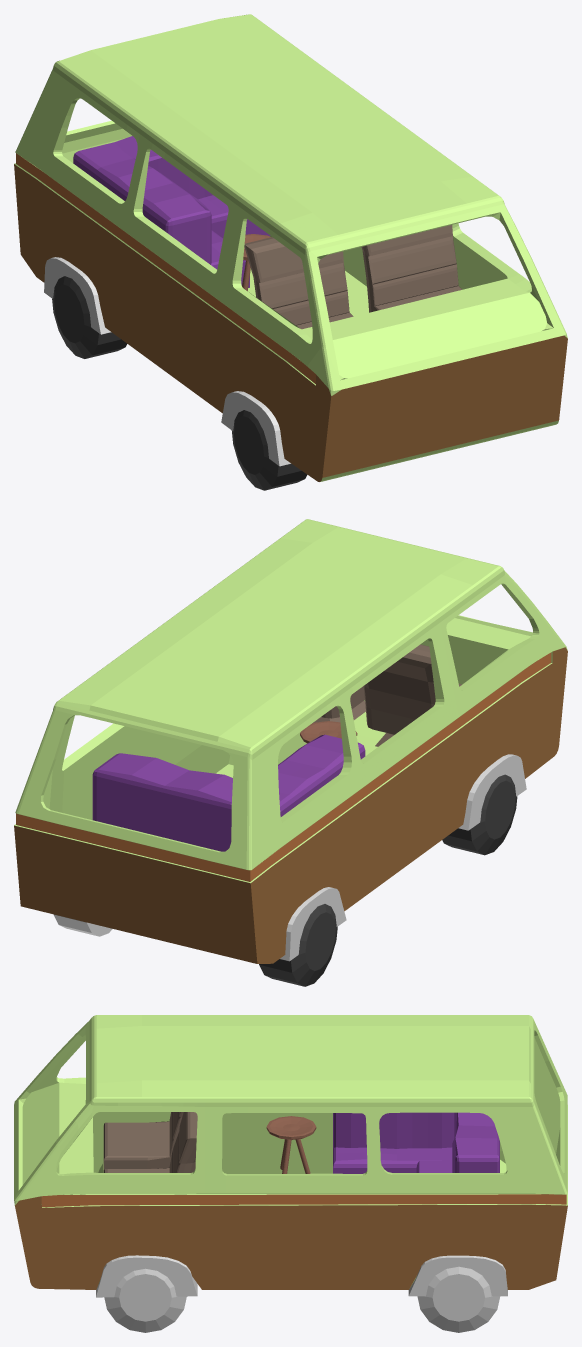
Rendered from VanagonGL_painted-webready.glb.
3 views of the same model, one above another, from view 1: azimuth 30°, elevation 25°; view 2: azimuth 150°, elevation 25°; view 3: azimuth 270°, elevation 25° (orthographic). The views are drawn at different scales.
Visible parts, largest first — view 1: VanBody, VanLowerBody, Sofa, Seat-2, Seat-1, VanBody-Strip, Tier-2.005, Tier-2.004, Cube.004, Cube.003; view 2: VanBody, VanLowerBody, Sofa, VanBody-Strip, Seat-1, Tier-2.005, Tier-2.004, Cube.004, Cube.003, Seat-legs.001, Seat-2, Tier-2.001; view 3: VanBody, VanLowerBody, Sofa, VanBody-Strip, Tier-2.001, Tier-2, Seat-1, Cube.002, Cube.001, Seat-2, Seat-legs.001.
Part boxes in pixels (x1,y1,x2,y2): VanBody: (14, 14, 567, 481); VanLowerBody: (14, 164, 567, 481); Sofa: (73, 136, 270, 287); Seat-2: (361, 225, 462, 312); Seat-1: (244, 237, 353, 329); VanBody-Strip: (16, 153, 315, 383); Tier-2.005: (52, 276, 126, 358); Tier-2.004: (231, 410, 307, 490); Cube.004: (221, 391, 290, 466); Cube.003: (44, 257, 111, 334); VanBody: (14, 519, 567, 883); VanLowerBody: (14, 647, 567, 963); Sofa: (92, 734, 365, 851); VanBody-Strip: (16, 652, 551, 881); Seat-1: (363, 644, 461, 746); Tier-2.005: (259, 904, 337, 986); Tier-2.004: (442, 774, 517, 855); Cube.004: (458, 754, 526, 830); Cube.003: (280, 887, 346, 961); Seat-legs.001: (300, 721, 357, 743); Seat-2: (312, 686, 365, 723); Tier-2.001: (53, 914, 112, 936); VanBody: (14, 1015, 567, 1285); VanLowerBody: (15, 1196, 567, 1289); Sofa: (333, 1112, 499, 1173); VanBody-Strip: (41, 1194, 566, 1207); Tier-2.001: (417, 1266, 500, 1332); Tier-2: (104, 1268, 186, 1332); Seat-1: (103, 1112, 183, 1171); Cube.002: (96, 1255, 197, 1297); Cube.001: (408, 1255, 507, 1296); Seat-2: (103, 1112, 197, 1172); Seat-legs.001: (266, 1116, 316, 1173).
Size of the model in its own units: 6.06 by 6.06 by 13.28.
